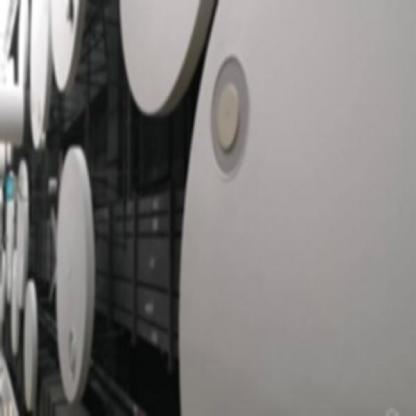light_off: (206, 30, 258, 202)
